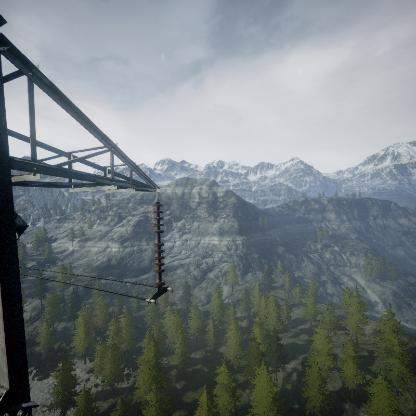insulator: (151, 198, 165, 287)
